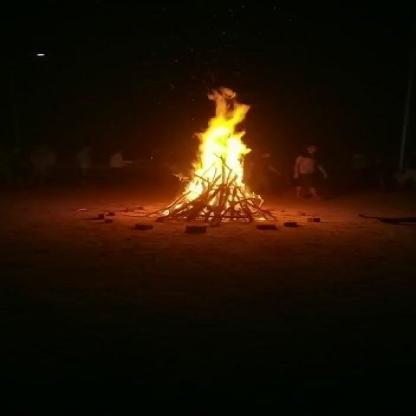fire: (164, 78, 274, 216)
